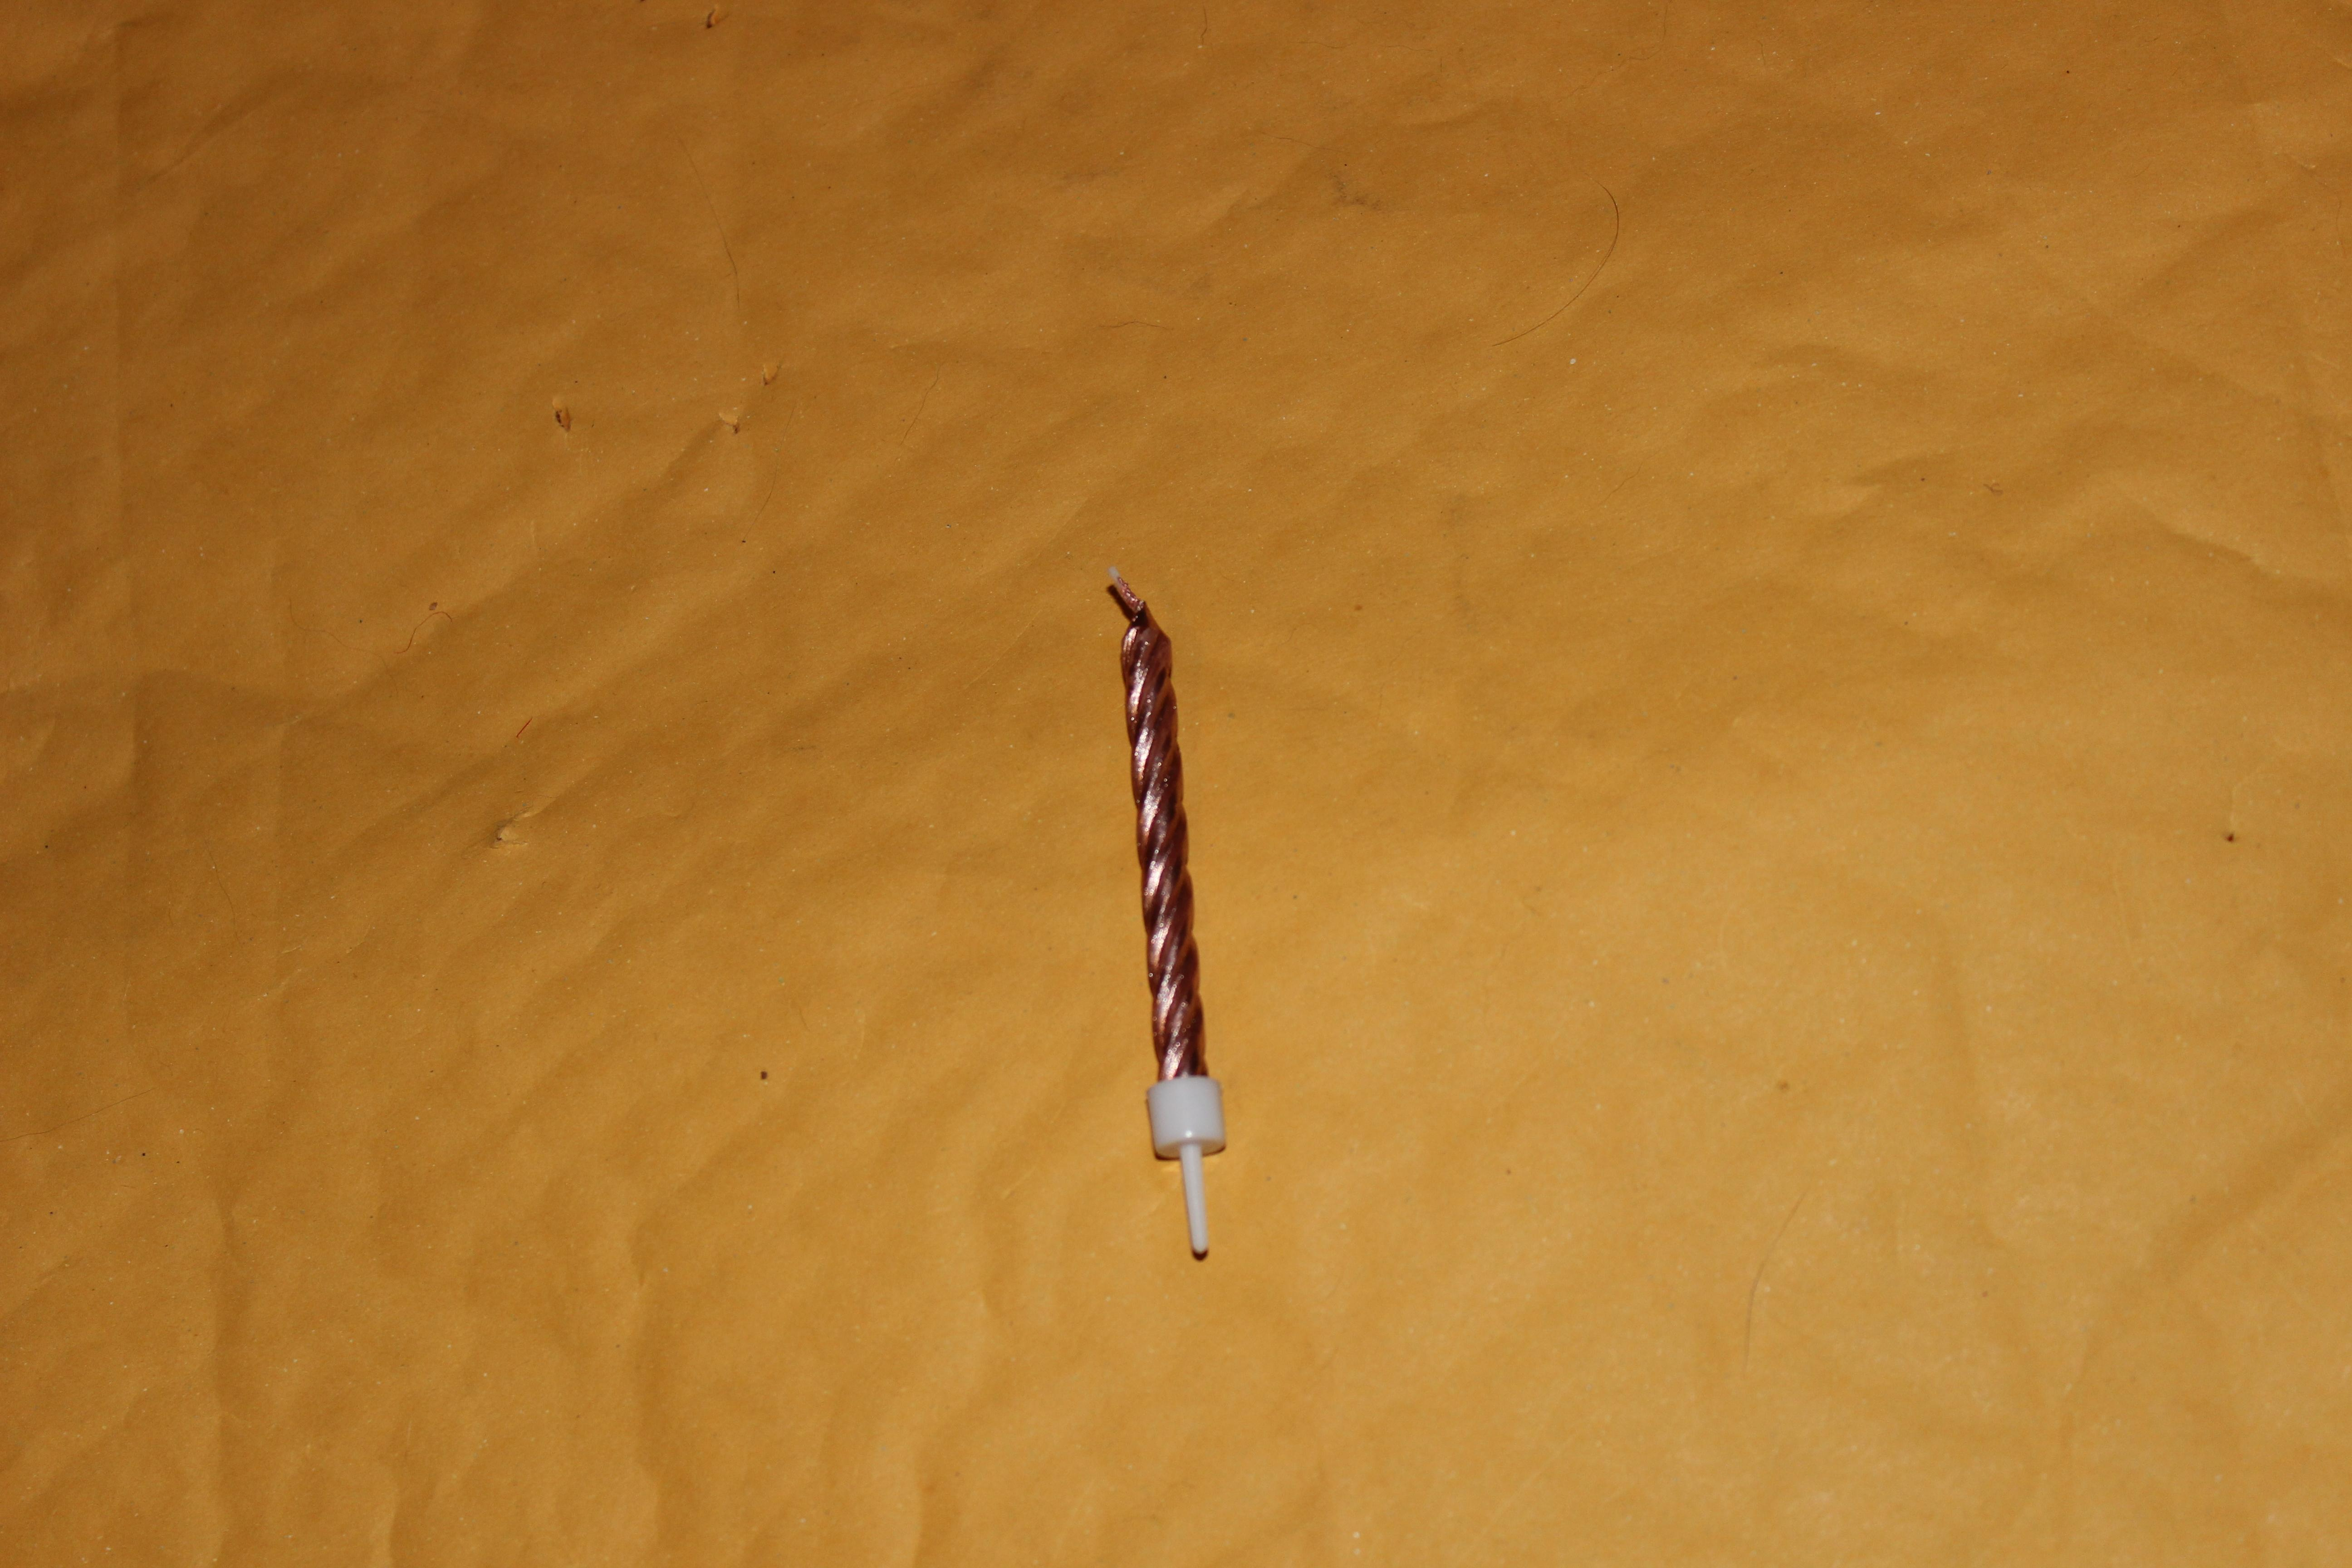pinkCandle: (1043, 534, 1265, 1291)
